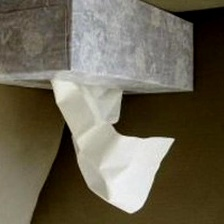book: (0, 0, 200, 101)
tissue: (44, 75, 180, 218)
